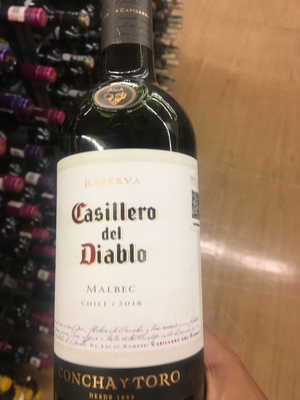casillero del diablo malbec: (45, 33, 218, 400)
